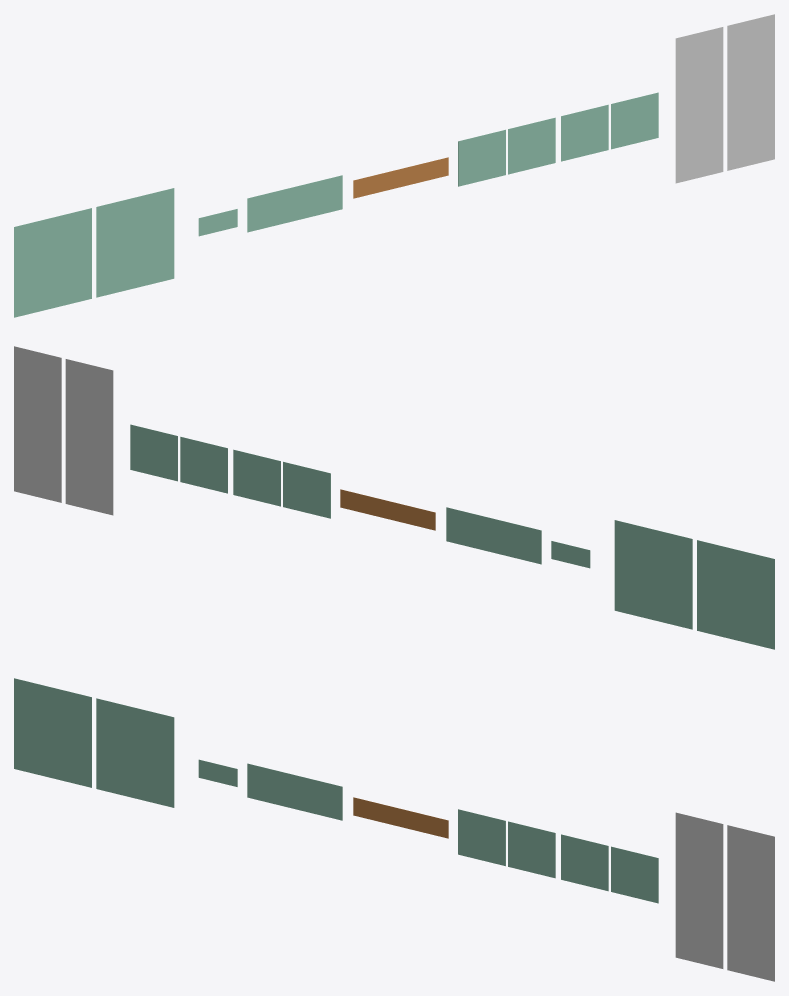
The model's file is その他壁.gltf.
3 views of the same model, one above another, from view 1: azimuth 30°, elevation 25°; view 2: azimuth 150°, elevation 25°; view 3: azimuth 330°, elevation 25° (orthographic).
Visible parts, largest first — view 1: 屋根1.001, 立方体, 屋根1, 立方体.001, コンセント部分1, 機械床, 機械床.001, 機械床.003, 機械床.002, コンセント部分2, 屋根2; view 2: 屋根1.001, 立方体, 屋根1, 立方体.001, コンセント部分1, 機械床, 機械床.001, 機械床.003, 機械床.002, コンセント部分2, 屋根2; view 3: 屋根1.001, 立方体, 屋根1, 立方体.001, コンセント部分1, 機械床, 機械床.001, 機械床.003, 機械床.002, コンセント部分2, 屋根2.
Part boxes in pixels (box(x1,y1,x2,y2)): 屋根1.001: box(96, 188, 174, 297); 立方体: box(675, 27, 723, 183); 屋根1: box(14, 208, 91, 317); 立方体.001: box(727, 14, 774, 170); コンセント部分1: box(247, 175, 342, 232); 機械床: box(458, 129, 505, 186); 機械床.001: box(508, 117, 555, 174); 機械床.003: box(561, 104, 608, 161); 機械床.002: box(611, 92, 658, 149); コンセント部分2: box(353, 157, 448, 198); 屋根2: box(198, 209, 237, 236); 屋根1.001: box(614, 520, 692, 629); 立方体: box(65, 359, 113, 515); 屋根1: box(697, 540, 774, 649); 立方体.001: box(14, 346, 61, 502); コンセント部分1: box(446, 507, 541, 564); 機械床: box(283, 461, 330, 518); 機械床.001: box(233, 449, 280, 506); 機械床.003: box(180, 436, 227, 493); 機械床.002: box(130, 424, 177, 481); コンセント部分2: box(340, 489, 435, 530); 屋根2: box(551, 541, 590, 568); 屋根1.001: box(96, 698, 174, 807); 立方体: box(675, 812, 723, 968); 屋根1: box(14, 678, 91, 787); 立方体.001: box(727, 825, 774, 981); コンセント部分1: box(247, 763, 342, 820); 機械床: box(458, 809, 505, 866); 機械床.001: box(508, 821, 555, 878); 機械床.003: box(561, 834, 608, 891); 機械床.002: box(611, 846, 658, 903); コンセント部分2: box(353, 797, 448, 838); 屋根2: box(198, 759, 237, 786).
Size of the model in its own units: 35.13 by 6.4 by 0.008.
